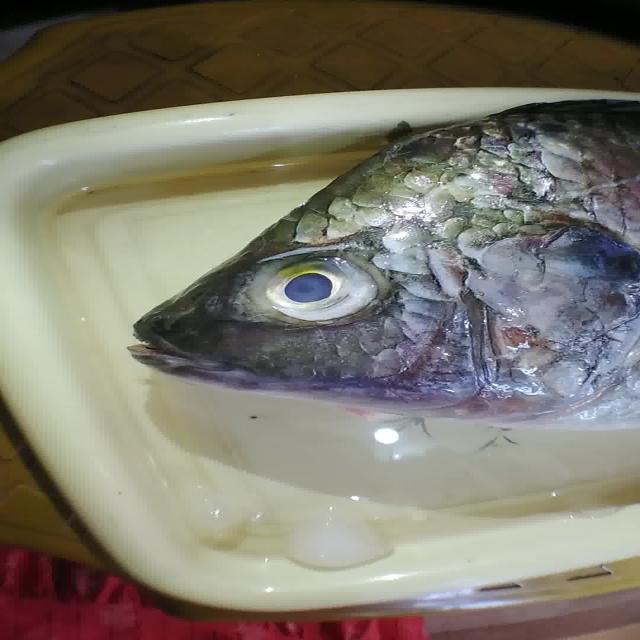Fresh: (245, 246, 402, 337)
